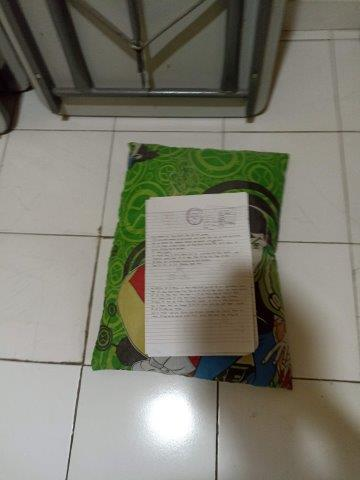kertas: (143, 192, 257, 357)
